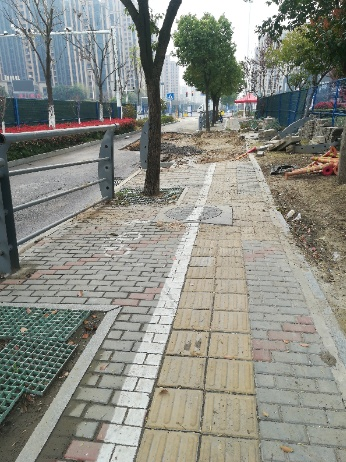good: (164, 203, 222, 222)
